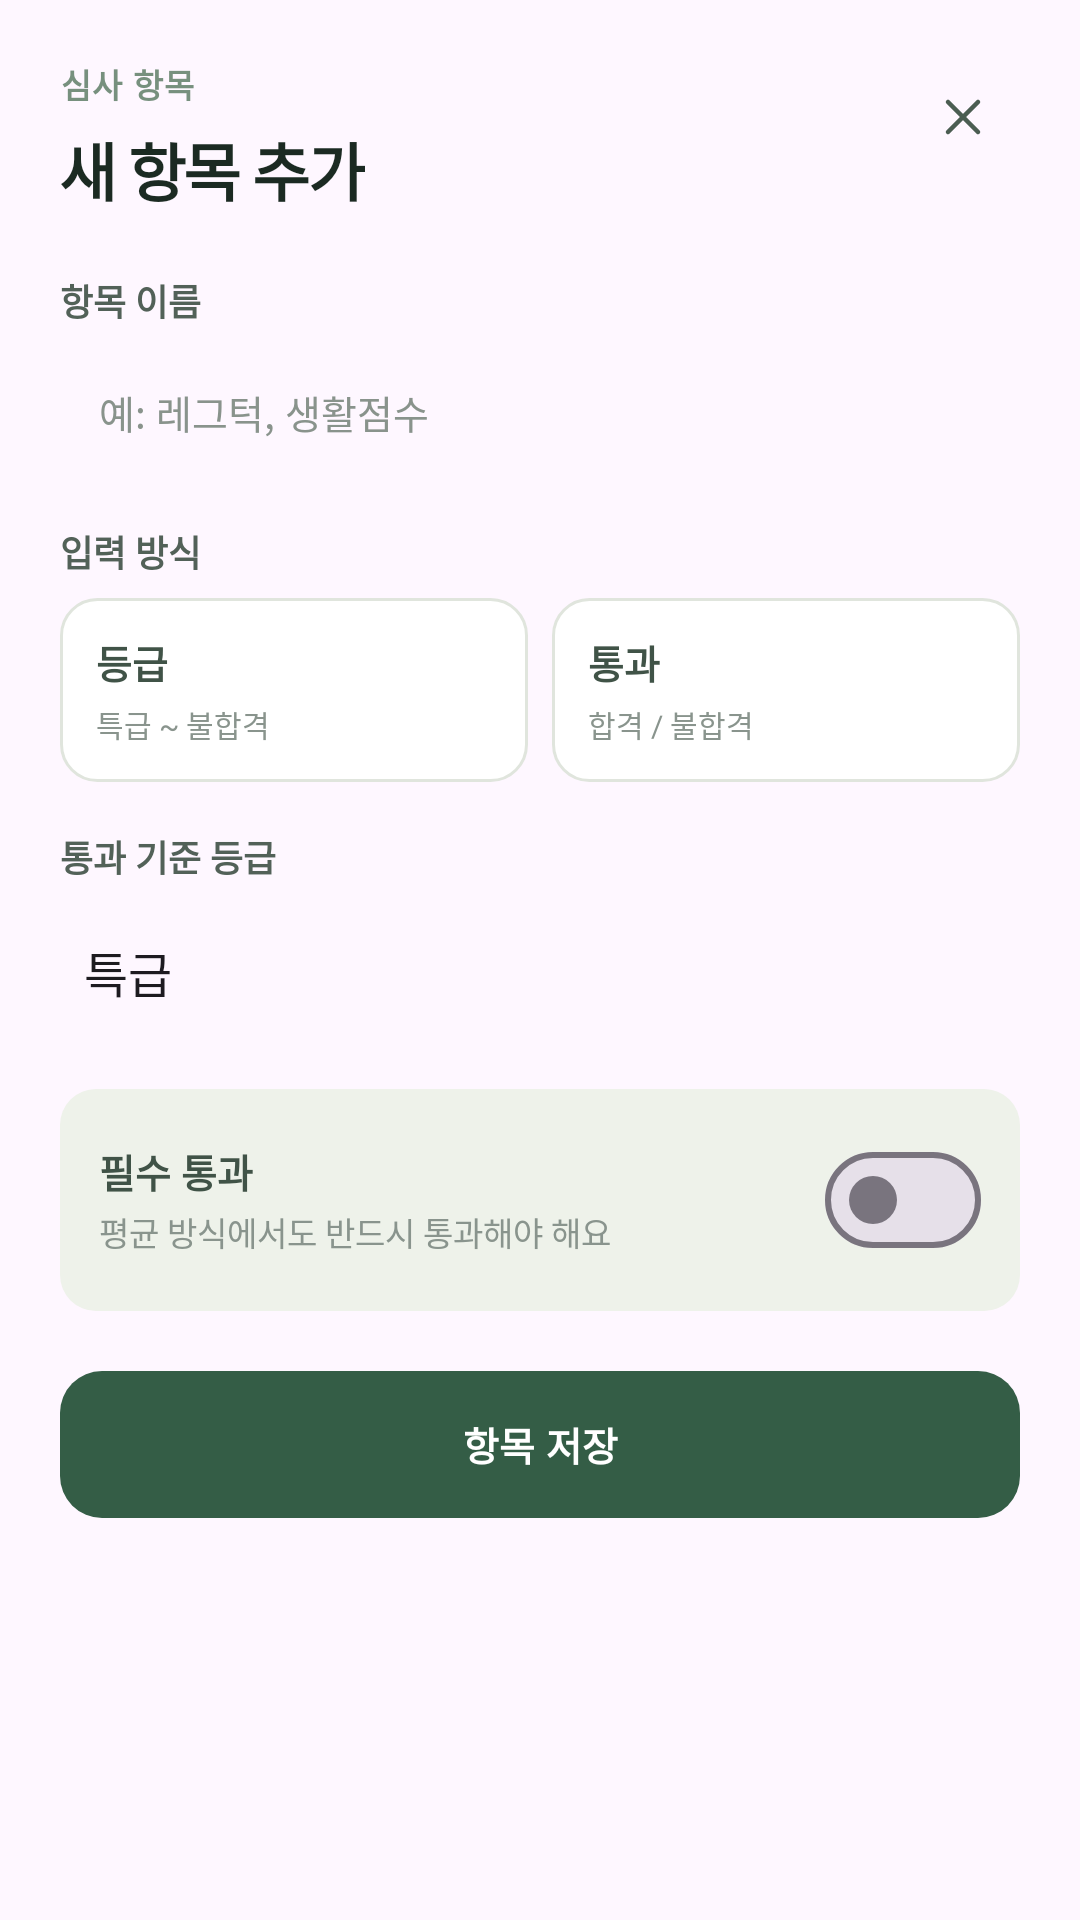

Screen size 1080 x 1920. Icon name, then its center in pixels as point (x, y):
닫기: point (963, 117)
